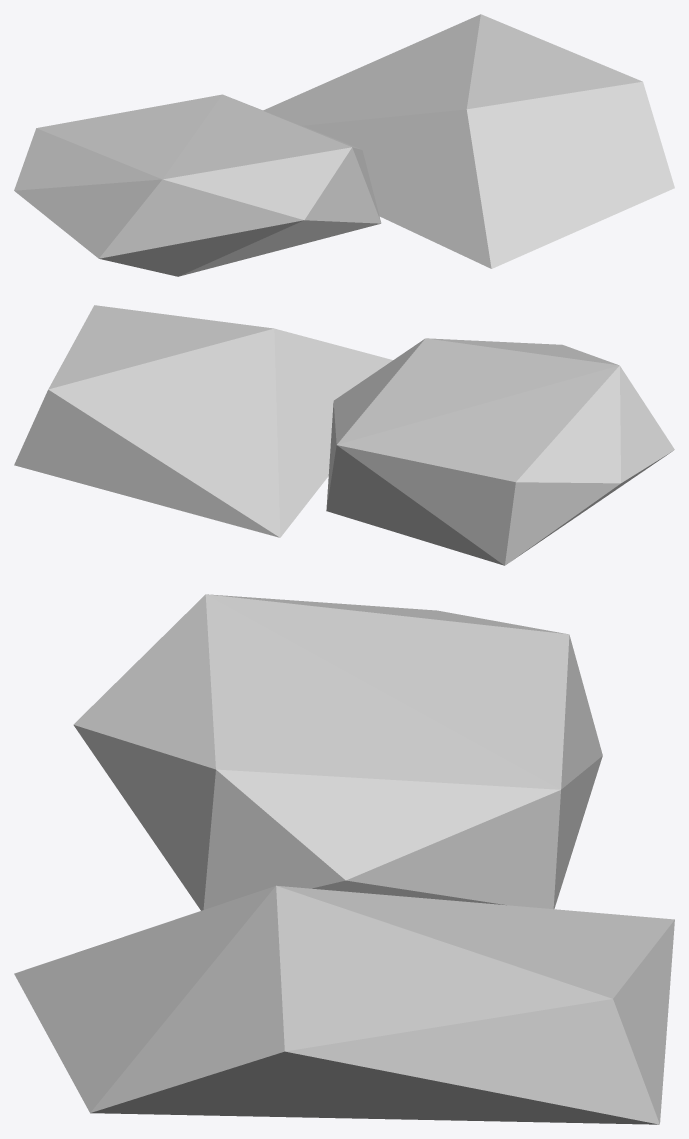
Rendered from Stone 3.fbx.
3 renders of one model, top to bottom at view 1: azimuth 30°, elevation 25°; view 2: azimuth 150°, elevation 25°; view 3: azimuth 270°, elevation 25°, orthographic. The views are drawn at different scales.
Visible parts, largest first — view 1: Stone 3; view 2: Stone 3; view 3: Stone 3.
Boxes of the visible parts, x1=… form: Stone 3: x1=14, y1=14, x2=674, y2=276; Stone 3: x1=14, y1=305, x2=674, y2=565; Stone 3: x1=14, y1=594, x2=674, y2=1124.
Bounding box in the file's own units: 7.94 × 1.47 × 4.98.
